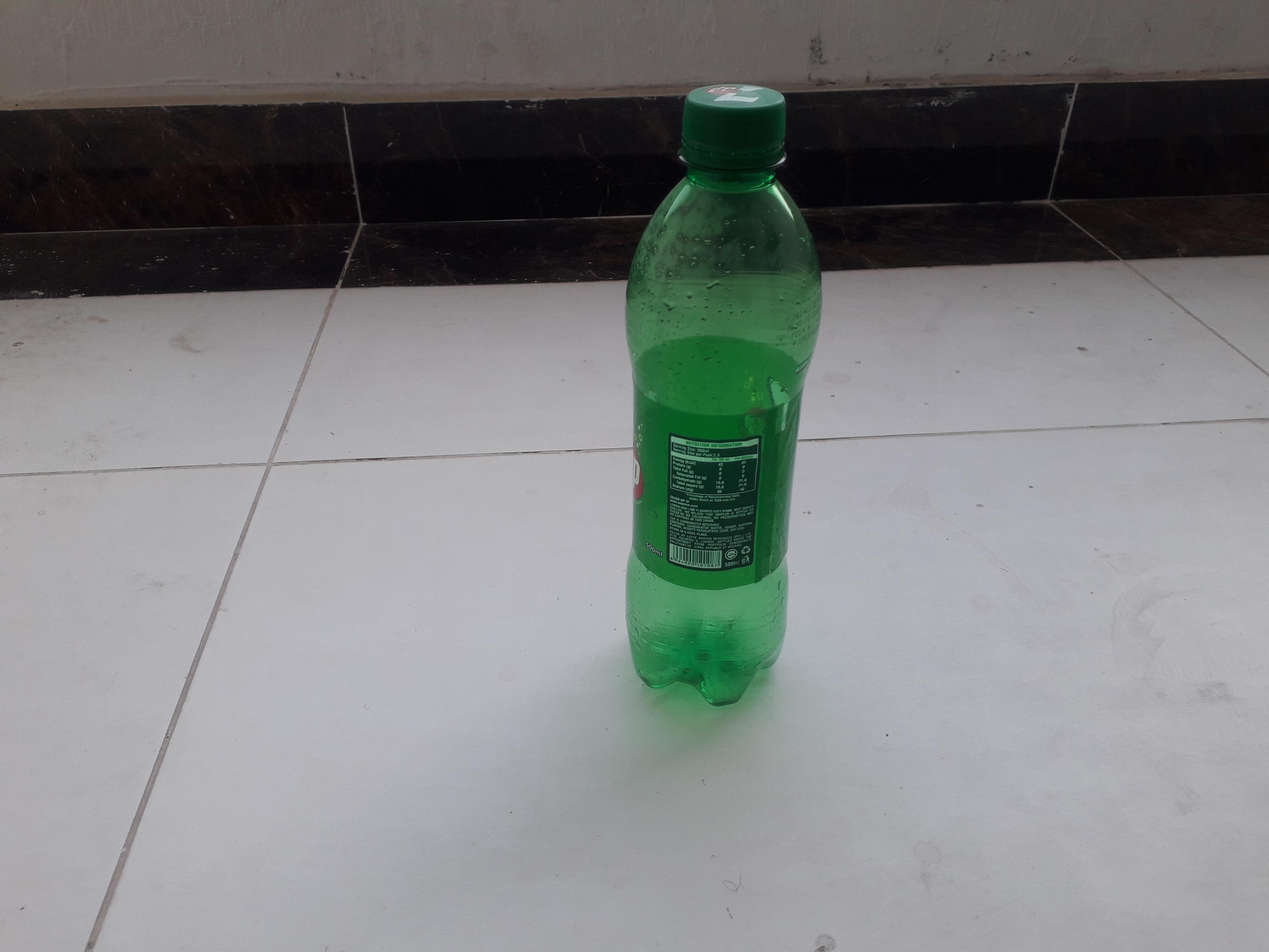bottle-plastic: (623, 80, 824, 708)
